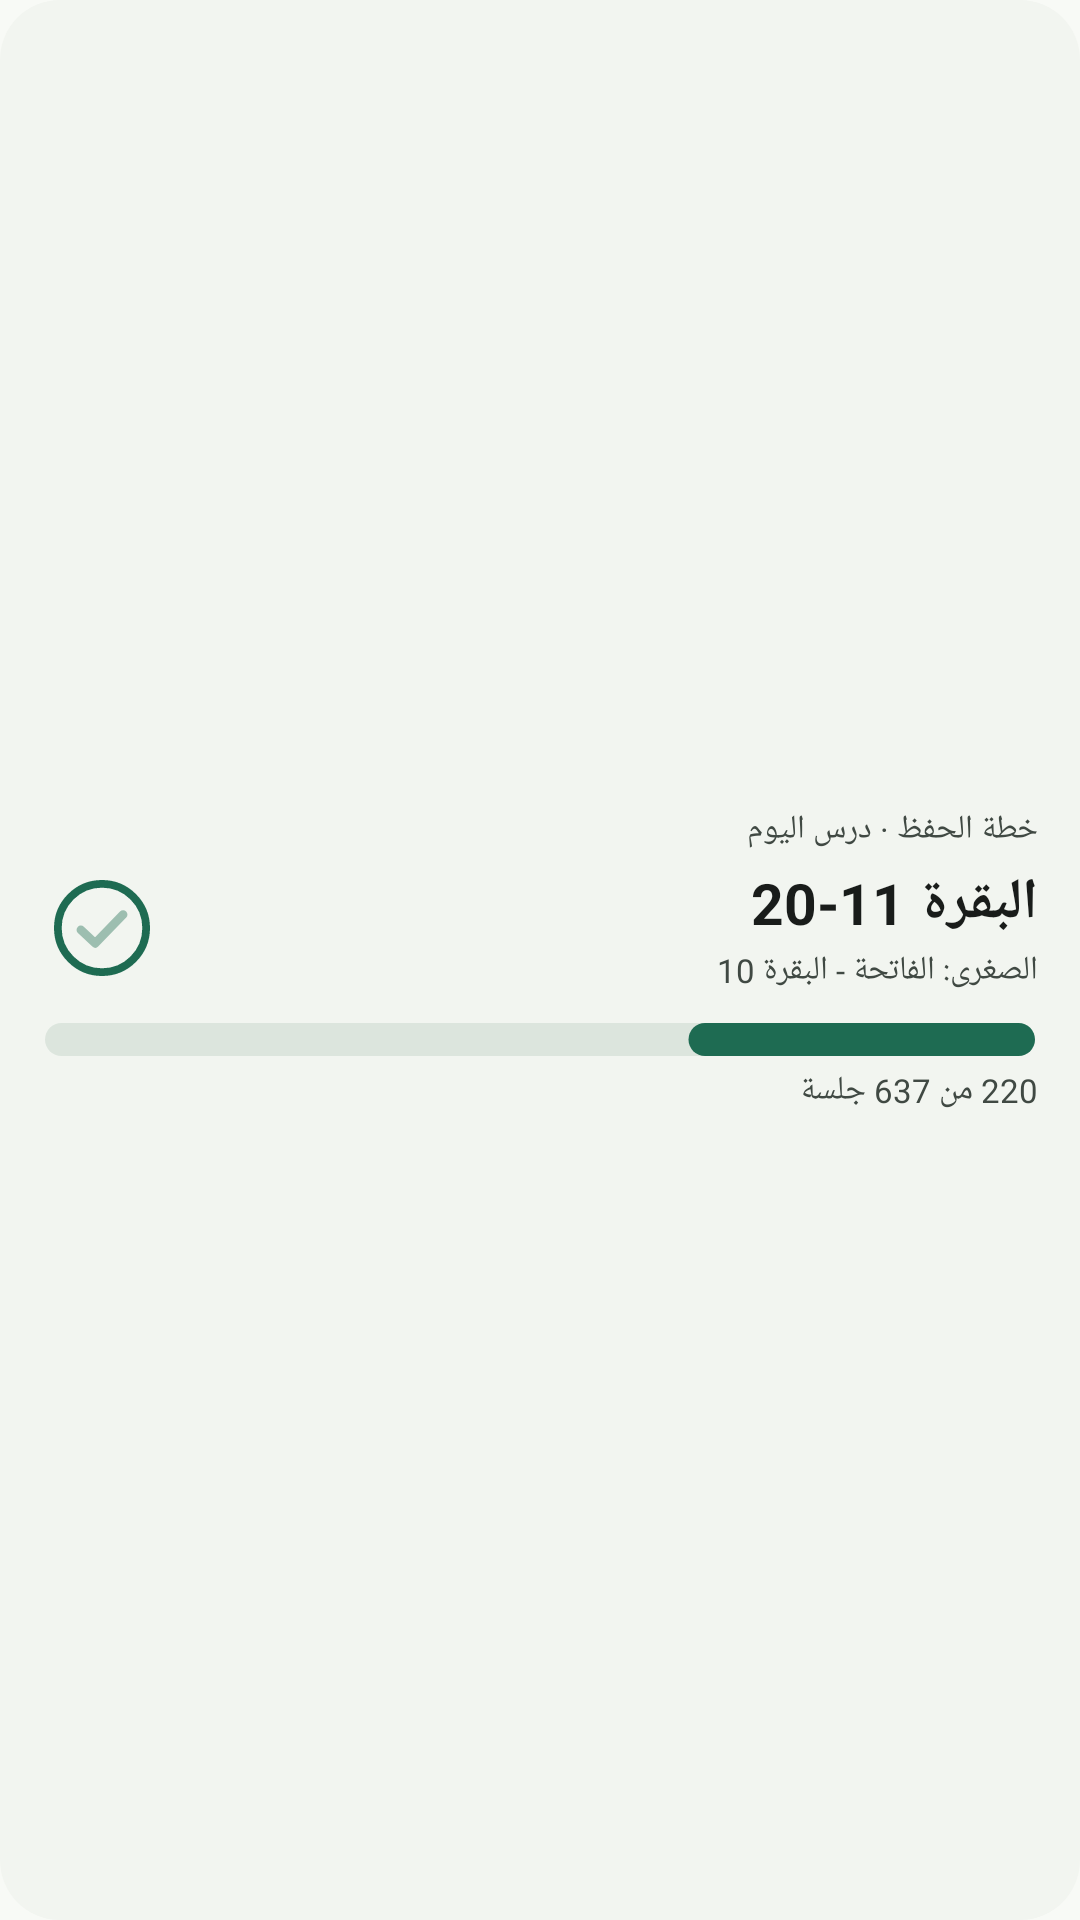

Point at icon controls on the screen. Image size 1080×1920, points as point (x, y).
تم: point (102, 928)
